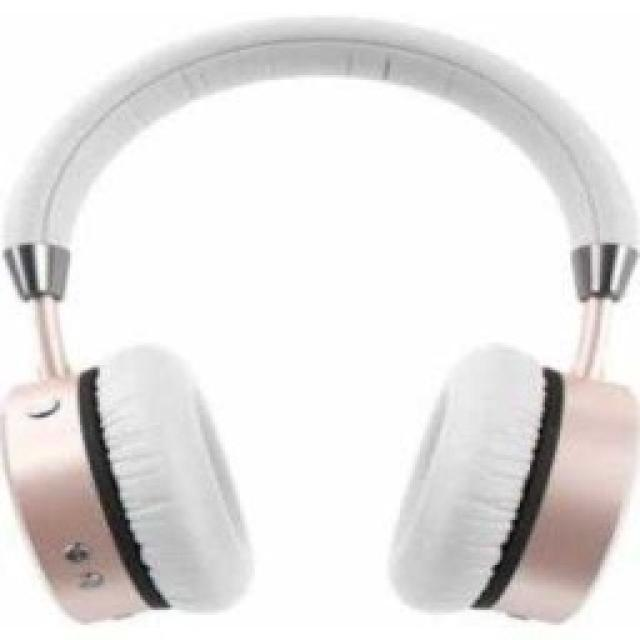headphones: (0, 13, 638, 625)
